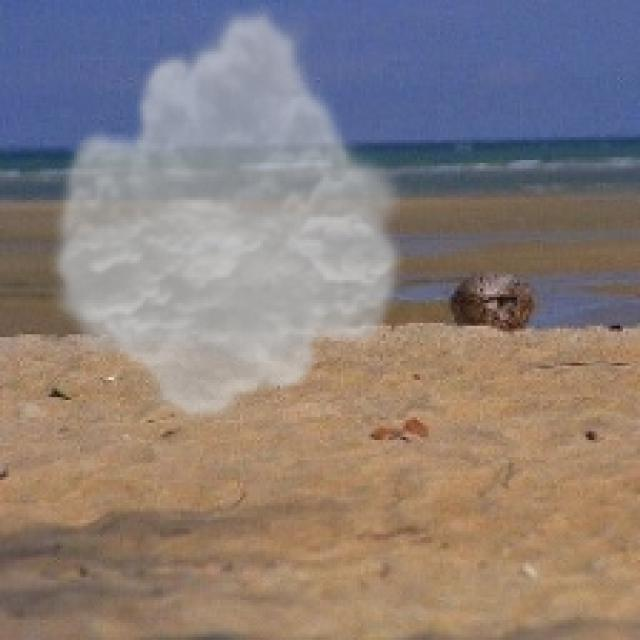Smoke: (42, 3, 412, 423)
